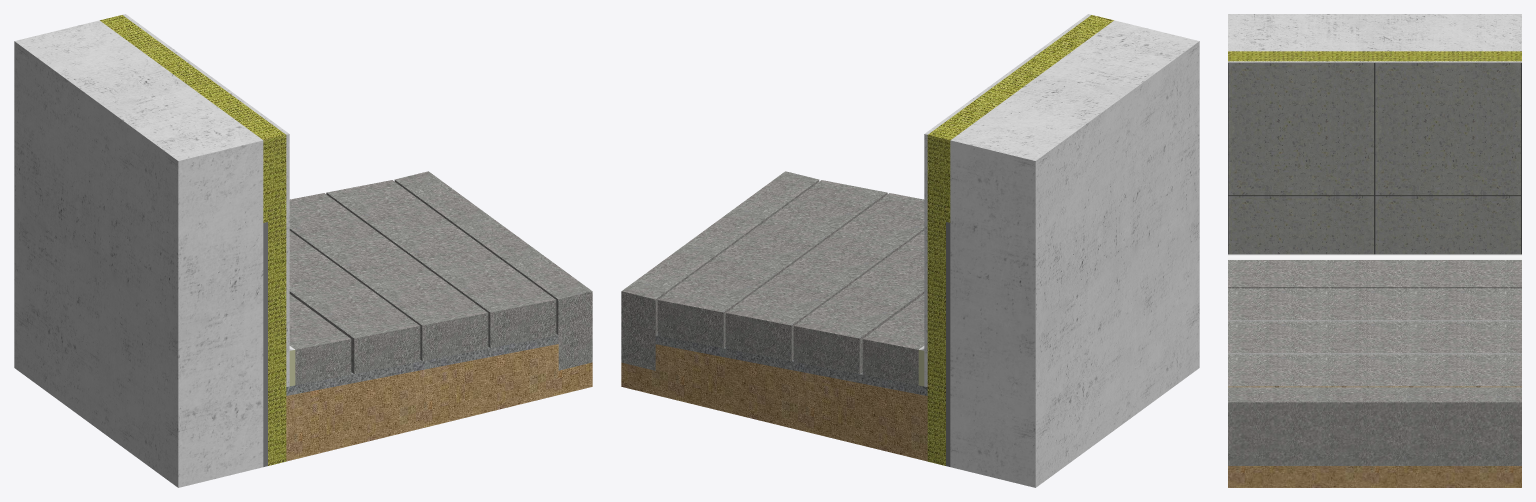
Rendered from stone-apron.glb.
3 renders of one model, left to right at view 1: azimuth 30°, elevation 25°; view 2: azimuth 150°, elevation 25°; view 3: azimuth 270°, elevation 25°, orthographic. The views are drawn at different scales.
Visible parts, largest first — view 1: 钢筋混凝土墙体, 120厚块石,1：2.5水泥砂浆灌缝, 素土夯实，向外坡 3%～5%, 保温层, 30厚粗砂垫层, 饰面层, 防水层; view 2: 钢筋混凝土墙体, 120厚块石,1：2.5水泥砂浆灌缝, 素土夯实，向外坡 3%～5%, 保温层, 30厚粗砂垫层, 饰面层, 防水层; view 3: 120厚块石,1：2.5水泥砂浆灌缝, 饰面层, 钢筋混凝土墙体, 素土夯实，向外坡 3%～5%, 保温层, 密封膏嵌缝.
Boxes of the visible parts, left/top/right/bottom form: 钢筋混凝土墙体: left=14, top=20, right=263, bottom=487; 120厚块石,1：2.5水泥砂浆灌缝: left=289, top=171, right=592, bottom=385; 素土夯实，向外坡 3%～5%: left=286, top=344, right=592, bottom=461; 保温层: left=100, top=15, right=286, bottom=465; 30厚粗砂垫层: left=286, top=334, right=558, bottom=395; 饰面层: left=122, top=14, right=289, bottom=386; 防水层: left=263, top=222, right=267, bottom=466; 钢筋混凝土墙体: left=950, top=20, right=1199, bottom=487; 120厚块石,1：2.5水泥砂浆灌缝: left=621, top=171, right=924, bottom=385; 素土夯实，向外坡 3%～5%: left=621, top=344, right=927, bottom=461; 保温层: left=927, top=15, right=1113, bottom=465; 30厚粗砂垫层: left=655, top=334, right=927, bottom=395; 饰面层: left=924, top=14, right=1091, bottom=386; 防水层: left=946, top=222, right=950, bottom=466; 120厚块石,1：2.5水泥砂浆灌缝: left=1228, top=260, right=1521, bottom=465; 饰面层: left=1228, top=61, right=1521, bottom=254; 钢筋混凝土墙体: left=1228, top=14, right=1521, bottom=51; 素土夯实，向外坡 3%～5%: left=1228, top=466, right=1521, bottom=487; 保温层: left=1228, top=51, right=1521, bottom=61; 密封膏嵌缝: left=1228, top=254, right=1521, bottom=259.
Size of the model in its own units: 1.46 by 1.1 by 1.
12 materials, 8 textured.
